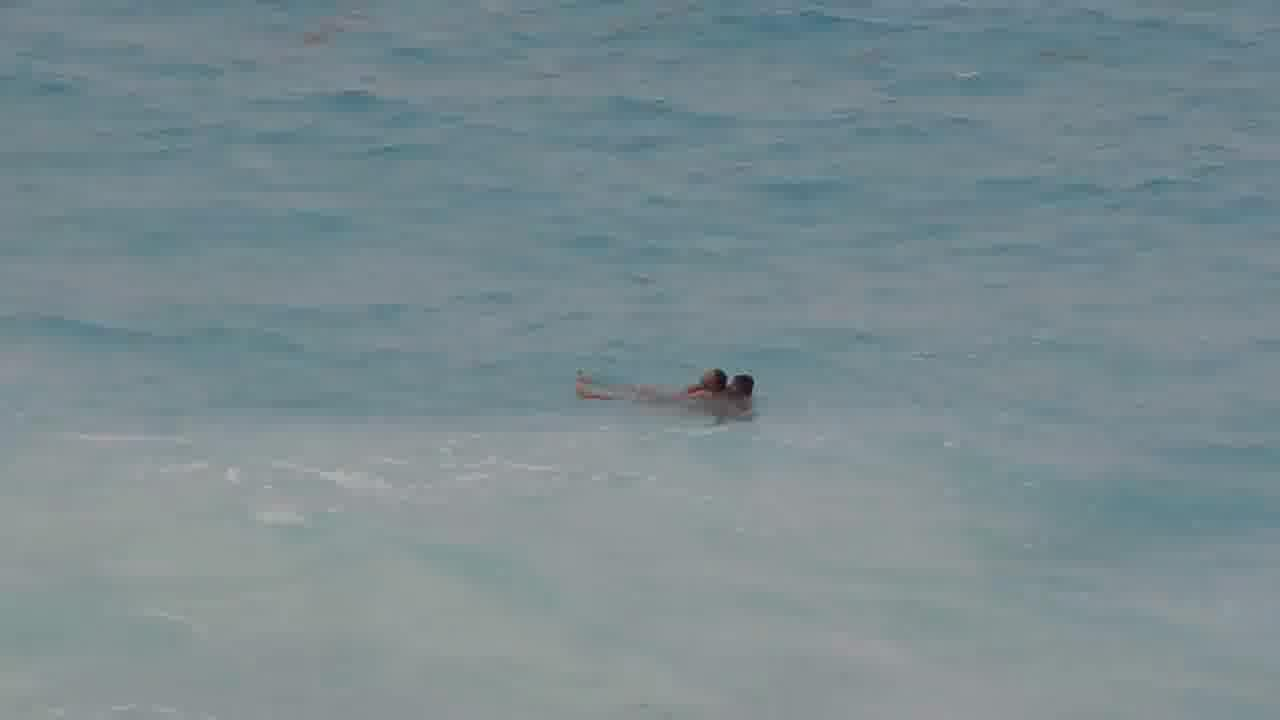swimmer: (724, 357, 776, 429), (690, 355, 716, 393)
